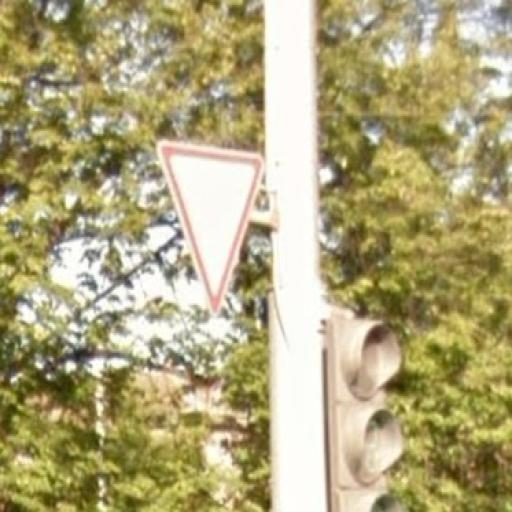traffic_sign: (152, 137, 273, 321)
